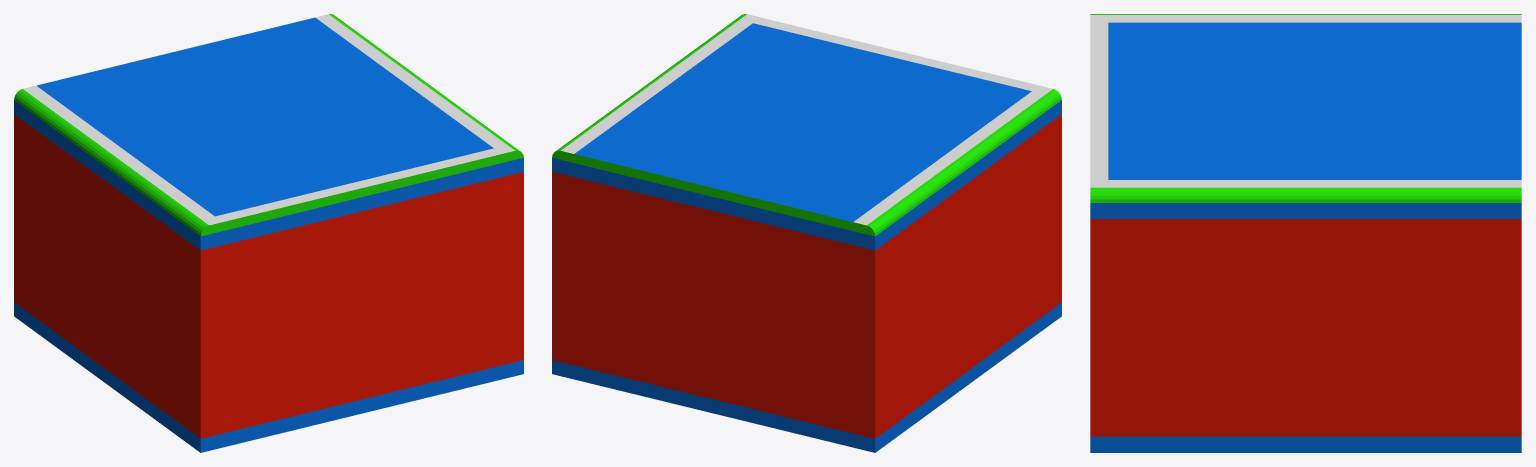
File: OrtaYol_Tepe.fbx
3 views of the same model, side by side, from view 1: azimuth 30°, elevation 25°; view 2: azimuth 150°, elevation 25°; view 3: azimuth 270°, elevation 25° (orthographic). The views are drawn at different scales.
Parts seen in each view (by area): view 1: OrtaYol_Tepe; view 2: OrtaYol_Tepe; view 3: OrtaYol_Tepe.
Boxes of the visible parts, bbox=[...] form: OrtaYol_Tepe: bbox=[14, 14, 523, 452]; OrtaYol_Tepe: bbox=[552, 14, 1061, 452]; OrtaYol_Tepe: bbox=[1090, 14, 1521, 452].
Size of the model in its own units: 600 by 400 by 600.
